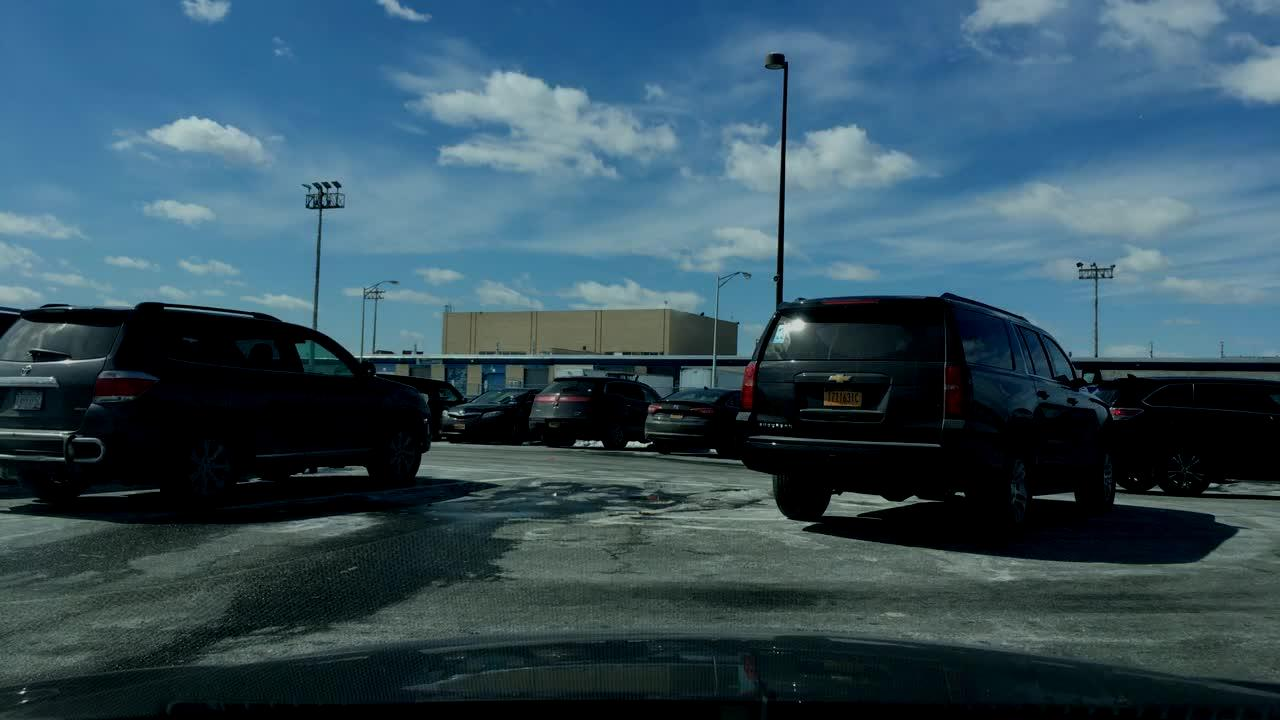chevrolet: (824, 365, 860, 389)
